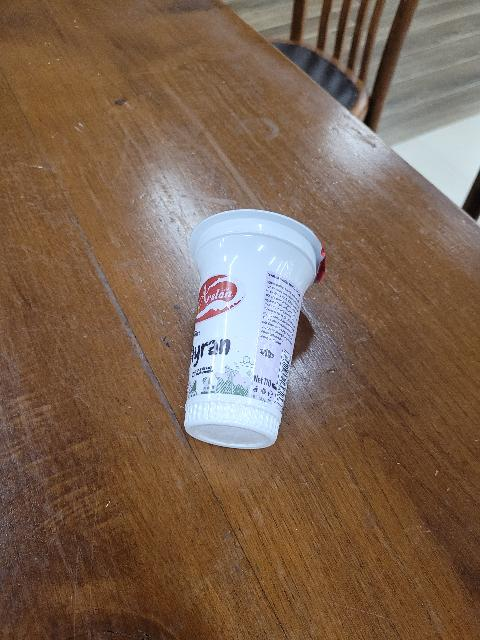Plastik: (173, 194, 331, 451)
